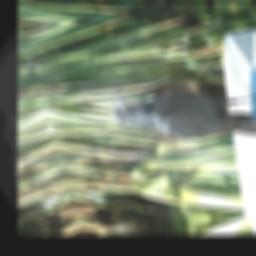Crow: (107, 80, 256, 154)
